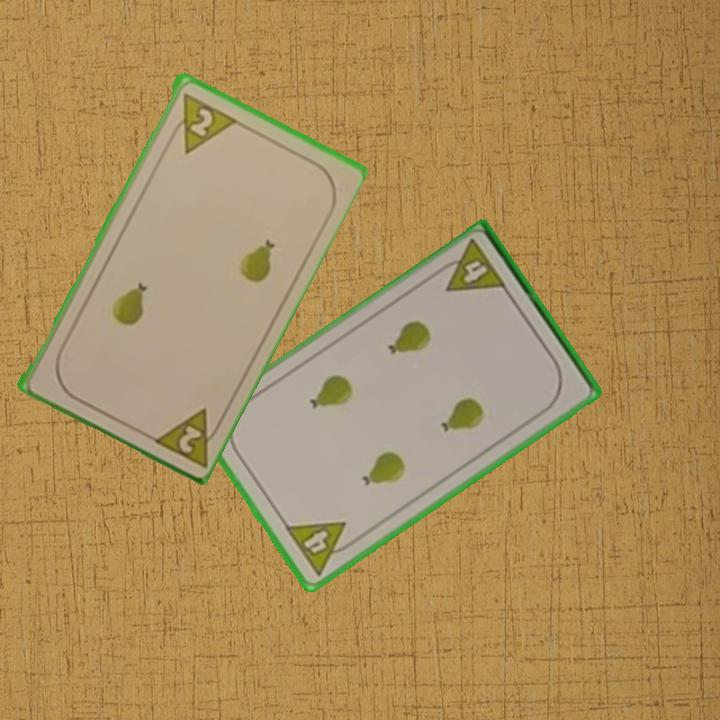2p: (146, 403, 227, 469), (165, 88, 237, 156)
4p: (281, 518, 360, 579), (432, 236, 509, 296)
